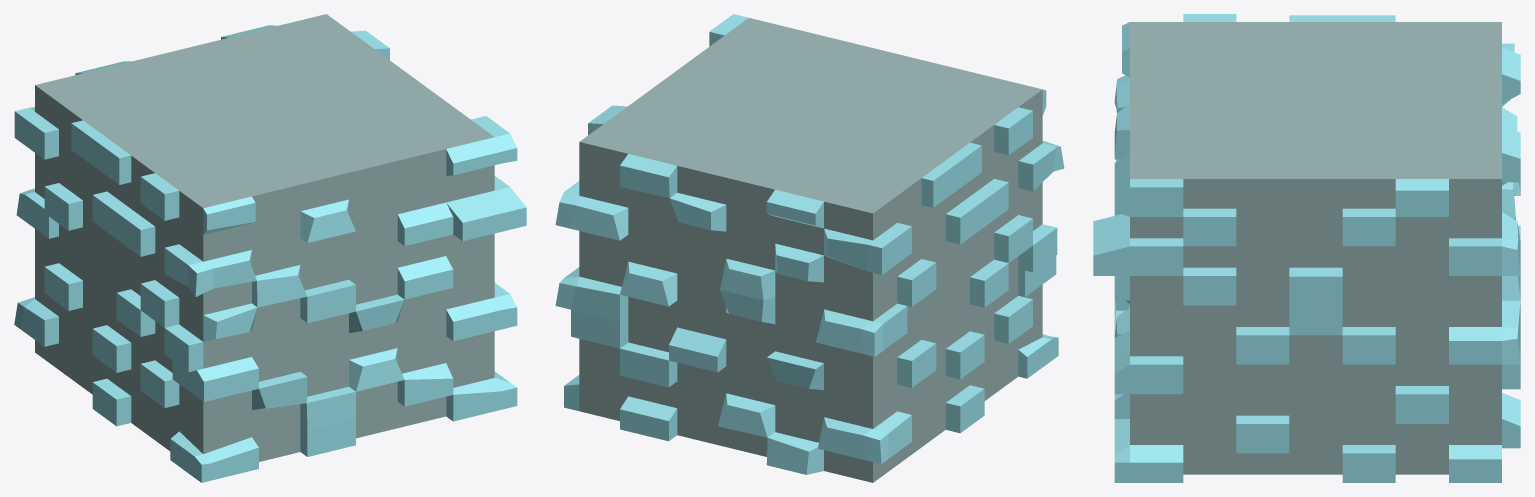
Rendered from Ice_Stone.fbx.
3 views of the same model, side by side, from view 1: azimuth 30°, elevation 25°; view 2: azimuth 150°, elevation 25°; view 3: azimuth 270°, elevation 25° (orthographic). The views are drawn at different scales.
Parts seen in each view (by area): view 1: Cube; view 2: Cube; view 3: Cube.
Part boxes in pixels (x1,y1,x2,y2): Cube: (14, 14, 526, 482); Cube: (555, 14, 1064, 482); Cube: (1093, 14, 1520, 482).
Bounding box in the file's own units: 221 × 175 × 230.
